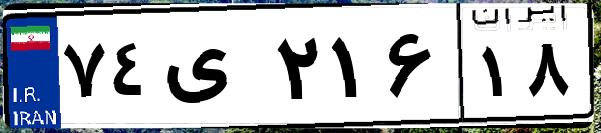1: (330, 28, 385, 110), (475, 38, 525, 113)
2: (270, 28, 330, 110)
4: (110, 28, 158, 98)
6: (385, 28, 445, 110)
7: (57, 26, 110, 100)
8: (525, 38, 570, 115)
ی: (158, 20, 270, 120)
